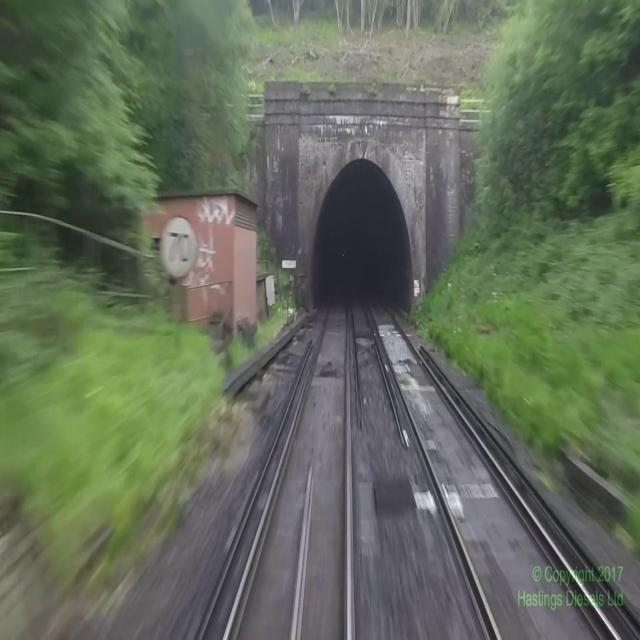rail-track: (366, 299, 615, 639), (228, 290, 347, 639)
